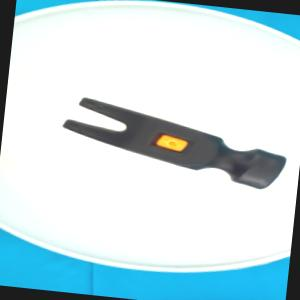martelo: (56, 95, 290, 192)
